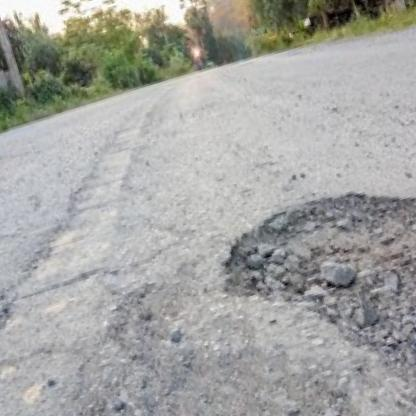pothole: (207, 152, 416, 416)
